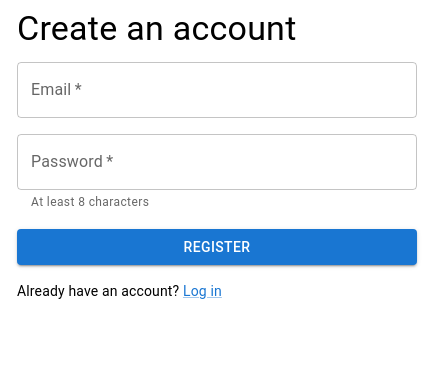
Test: RegisterPage › shows an error message for a duplicate email
expect the button "Register" is shown: met, box [17,229,417,265]
Step 1. Type "existing@example.com" into the field labelled "Email *" → (217,90), box [17,62,417,118]
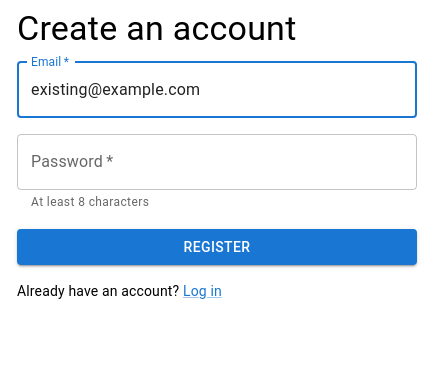
Step 2. Type "Password123!" into the password field labelled "Password *" → (217,162), box [17,134,417,190]
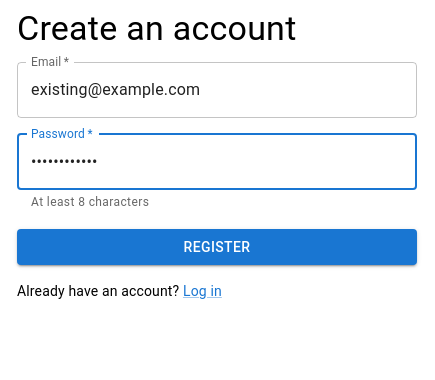
Step 3. Click the button "Register" → (217,247), box [17,229,417,265]
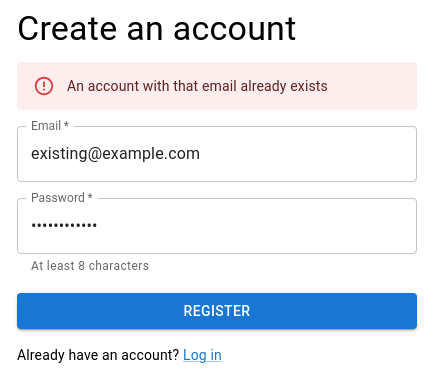
expect the text "An account with that email already exists" is shown: met, box [67,78,328,94]
